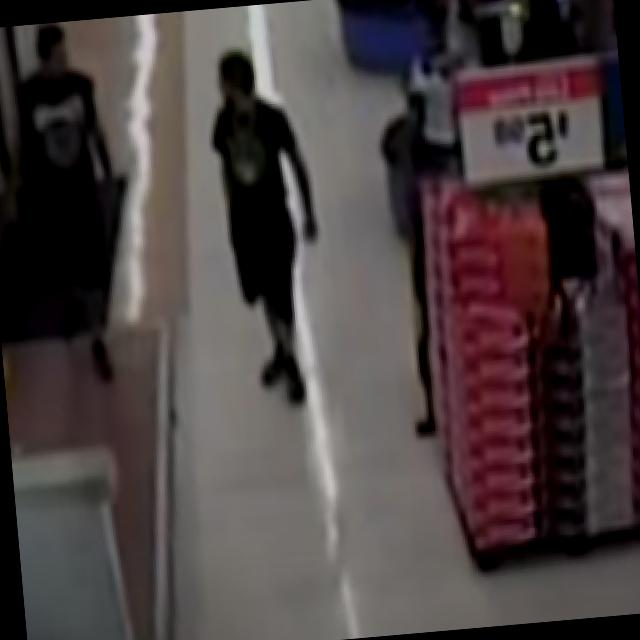person: (0, 18, 131, 383), (204, 46, 335, 410)
